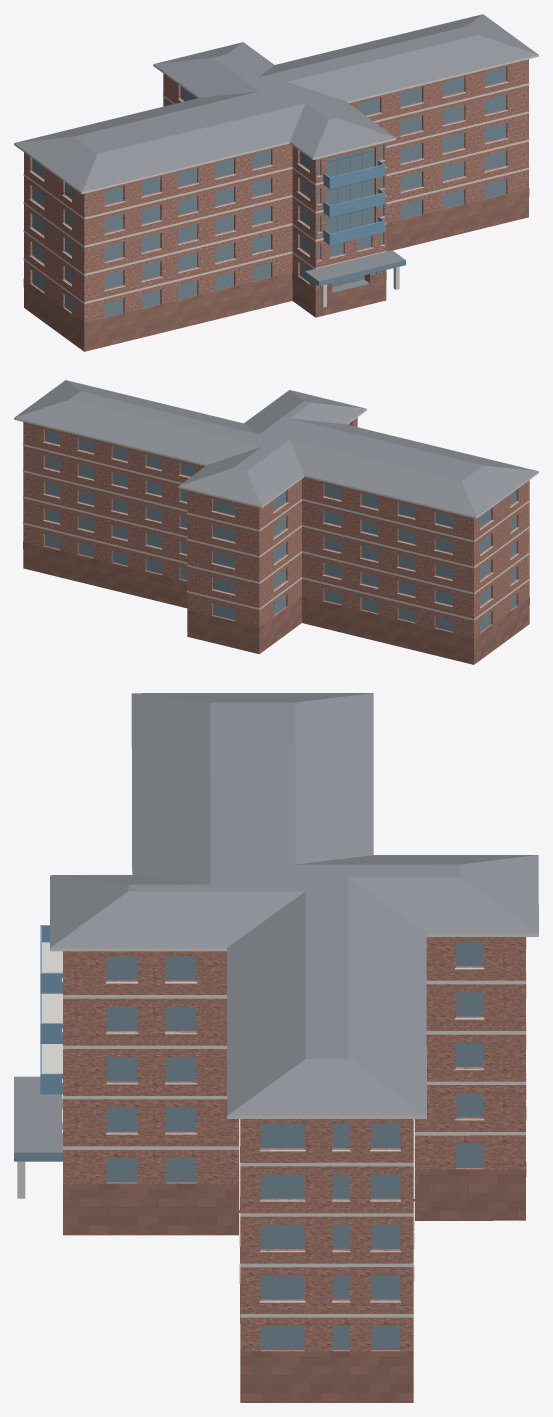
3 views of the same model, one above another, from view 1: azimuth 30°, elevation 25°; view 2: azimuth 150°, elevation 25°; view 3: azimuth 270°, elevation 25° (orthographic). The views are drawn at different scales.
Parts seen in each view (by area): view 1: jinriGwanN18__wall, jinriGwanN18__roof, jinriGwanN18__glass, jinriGwanN18__base, jinriGwanN18__trim, jinriGwanN18__accent, jinriGwanN18__canopyBand, jinriGwanN18__frame; view 2: jinriGwanN18__wall, jinriGwanN18__roof, jinriGwanN18__base, jinriGwanN18__glass, jinriGwanN18__trim; view 3: jinriGwanN18__roof, jinriGwanN18__wall, jinriGwanN18__base, jinriGwanN18__glass, jinriGwanN18__trim, jinriGwanN18__accent, jinriGwanN18__soffit.
Boxes of the visible parts, left/top/right/bottom form: jinriGwanN18__wall: left=24, top=59, right=528, bottom=330; jinriGwanN18__roof: left=14, top=14, right=538, bottom=292; jinriGwanN18__glass: left=32, top=66, right=506, bottom=317; jinriGwanN18__base: left=23, top=188, right=529, bottom=351; jinriGwanN18__trim: left=14, top=55, right=538, bottom=303; jinriGwanN18__accent: left=323, top=160, right=385, bottom=245; jinriGwanN18__canopyBand: left=305, top=260, right=405, bottom=286; jinriGwanN18__frame: left=326, top=150, right=374, bottom=285; jinriGwanN18__wall: left=23, top=417, right=529, bottom=645; jinriGwanN18__roof: left=14, top=380, right=538, bottom=517; jinriGwanN18__base: left=23, top=541, right=529, bottom=664; jinriGwanN18__glass: left=45, top=423, right=516, bottom=631; jinriGwanN18__trim: left=14, top=409, right=538, bottom=620; jinriGwanN18__roof: left=14, top=693, right=538, bottom=1152; jinriGwanN18__wall: left=63, top=937, right=525, bottom=1351; jinriGwanN18__base: left=63, top=1106, right=526, bottom=1402; jinriGwanN18__glass: left=106, top=942, right=483, bottom=1349; jinriGwanN18__trim: left=50, top=745, right=538, bottom=1317; jinriGwanN18__accent: left=40, top=925, right=62, bottom=1094; jinriGwanN18__soffit: left=42, top=942, right=62, bottom=1073.
Bounding box in the file's own units: 61.16 × 21.34 × 32.1.
10 materials, 2 textured.
